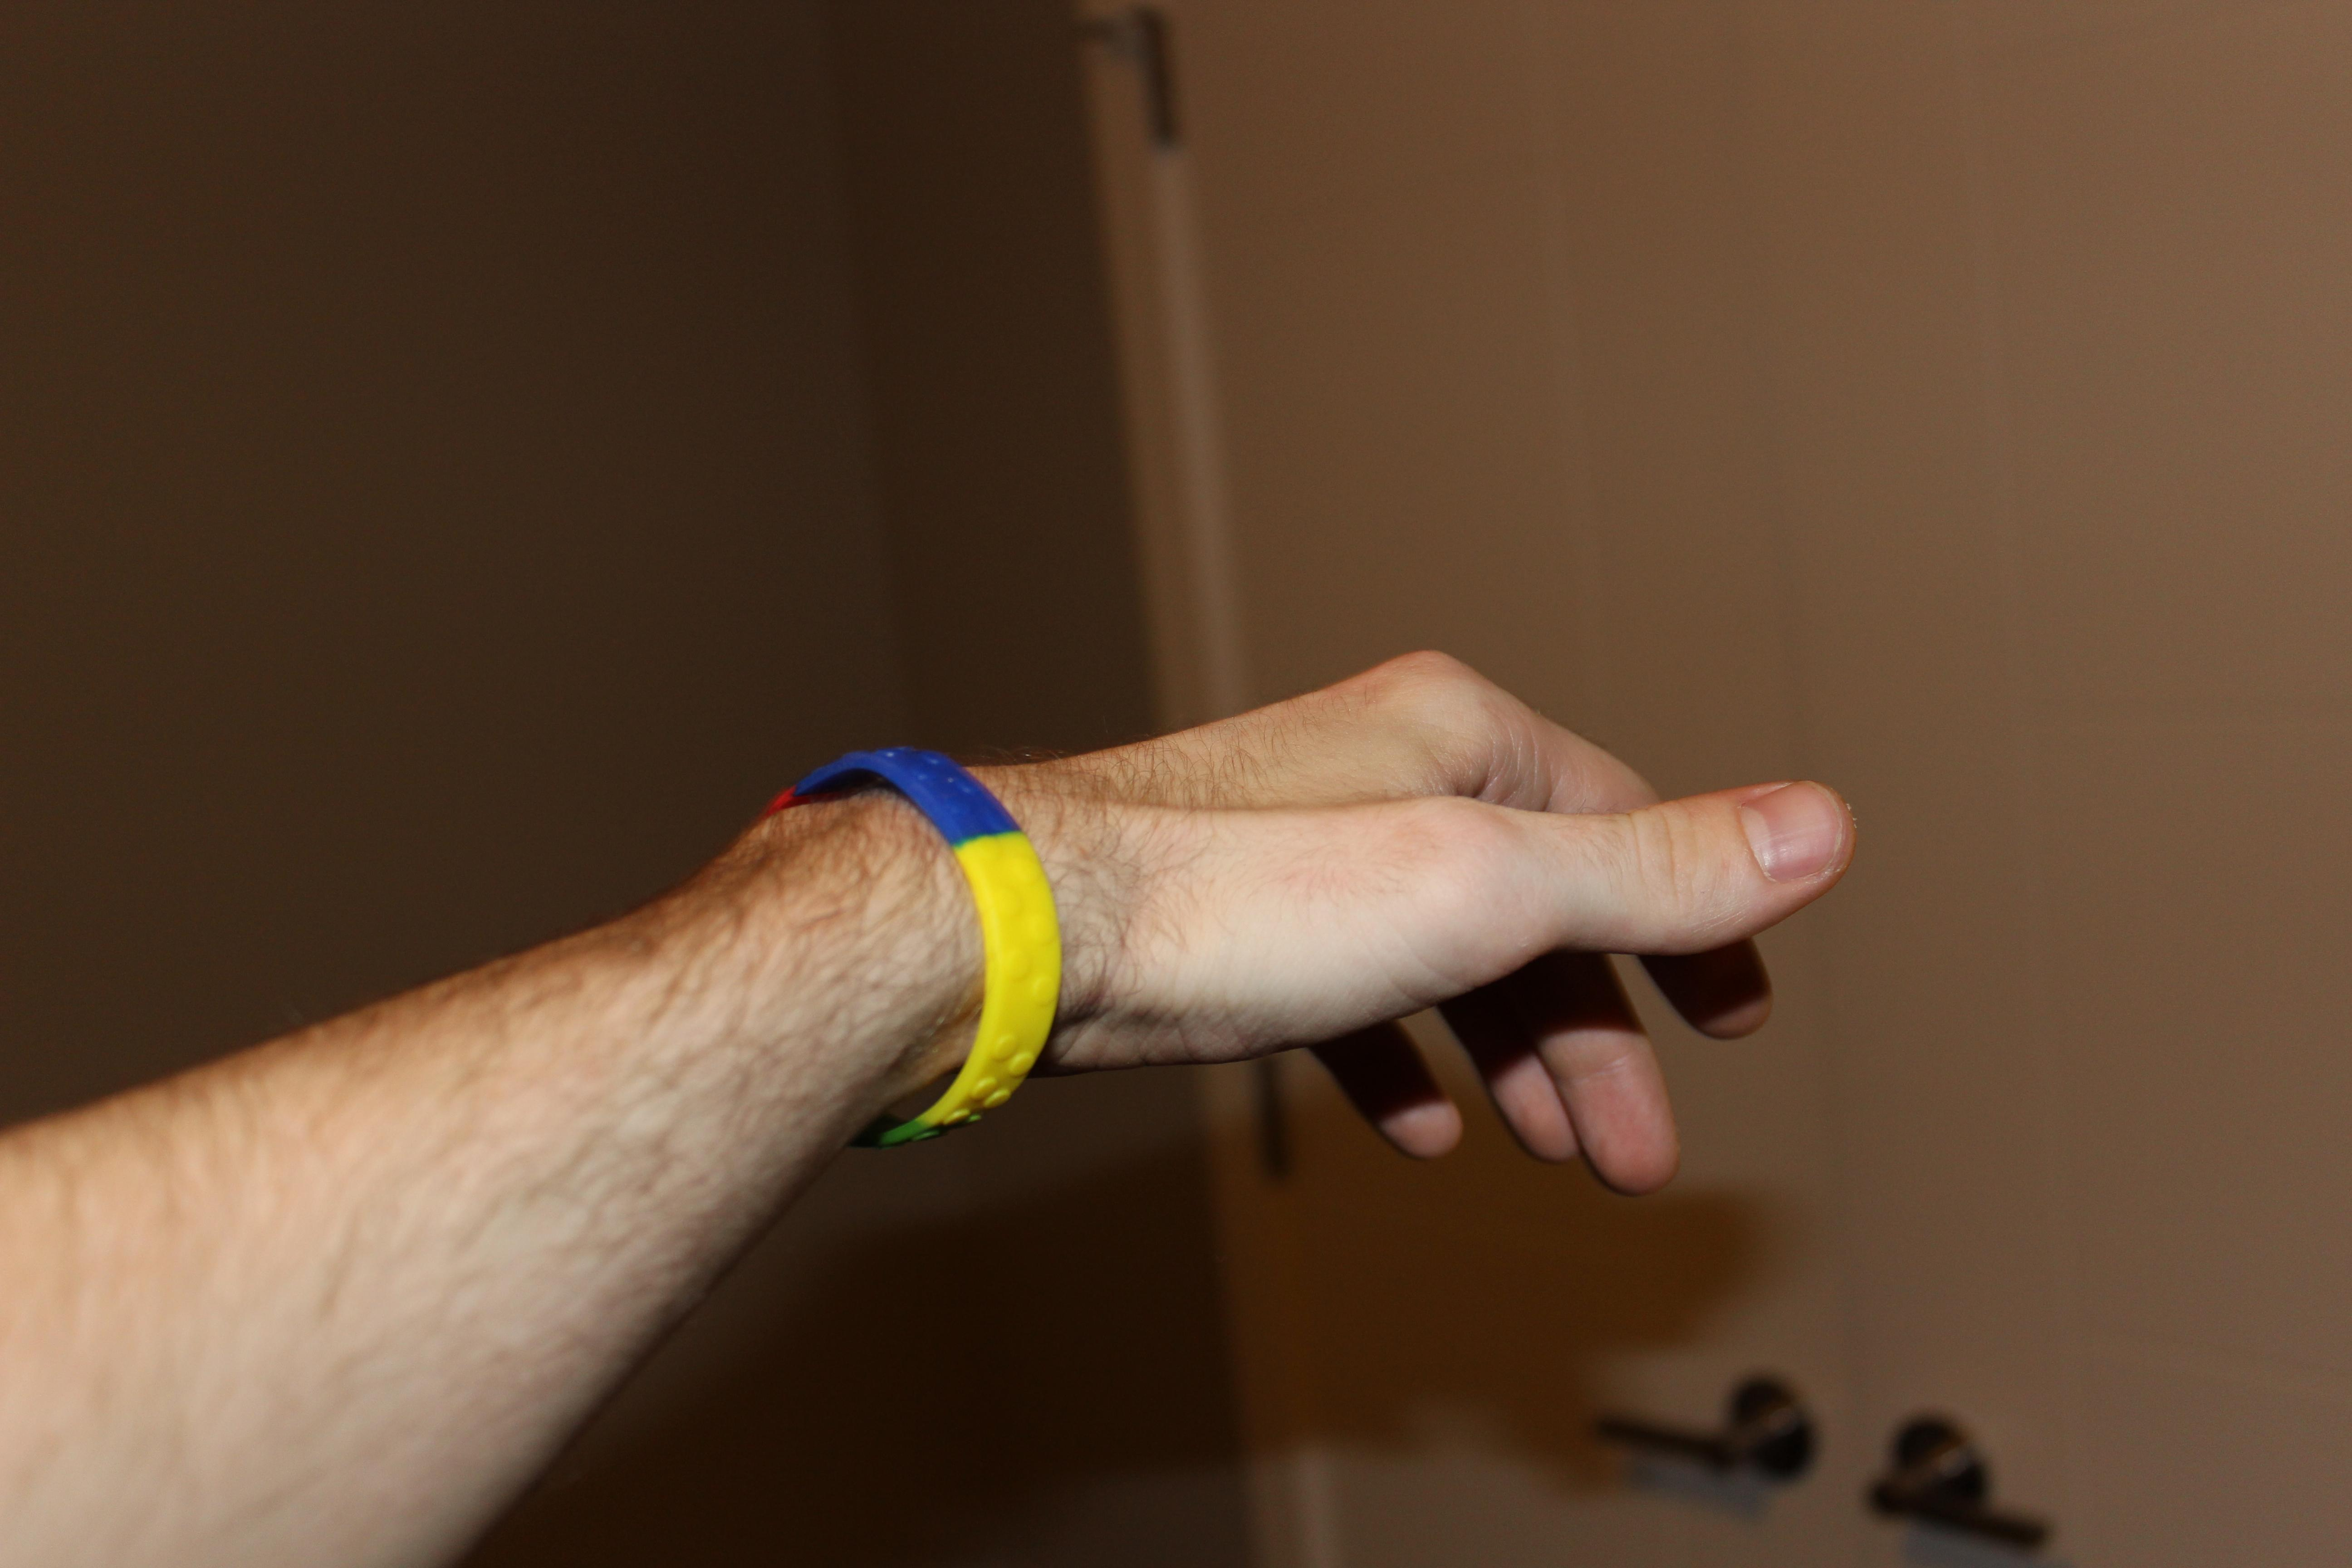legoBracelet: (738, 724, 1094, 1169)
